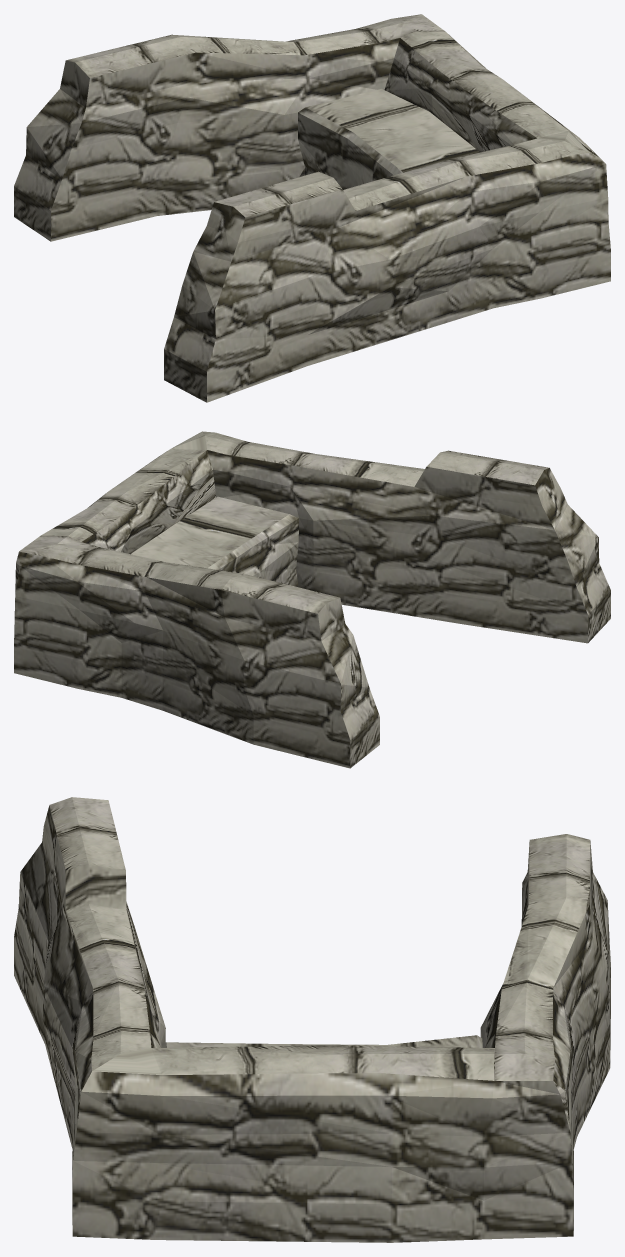
Rendered from Sandbags.fbx.
3 renders of one model, top to bottom at view 1: azimuth 30°, elevation 25°; view 2: azimuth 150°, elevation 25°; view 3: azimuth 270°, elevation 25°, orthographic. The views are drawn at different scales.
Visible parts, largest first — view 1: F_Pytle_01; view 2: F_Pytle_01; view 3: F_Pytle_01.
Boxes of the visible parts, left/top/right/bottom form: F_Pytle_01: left=14, top=14, right=610, bottom=402; F_Pytle_01: left=14, top=431, right=610, bottom=768; F_Pytle_01: left=14, top=797, right=610, bottom=1242.
Bounding box in the file's own units: 222 × 79.63 × 205.
